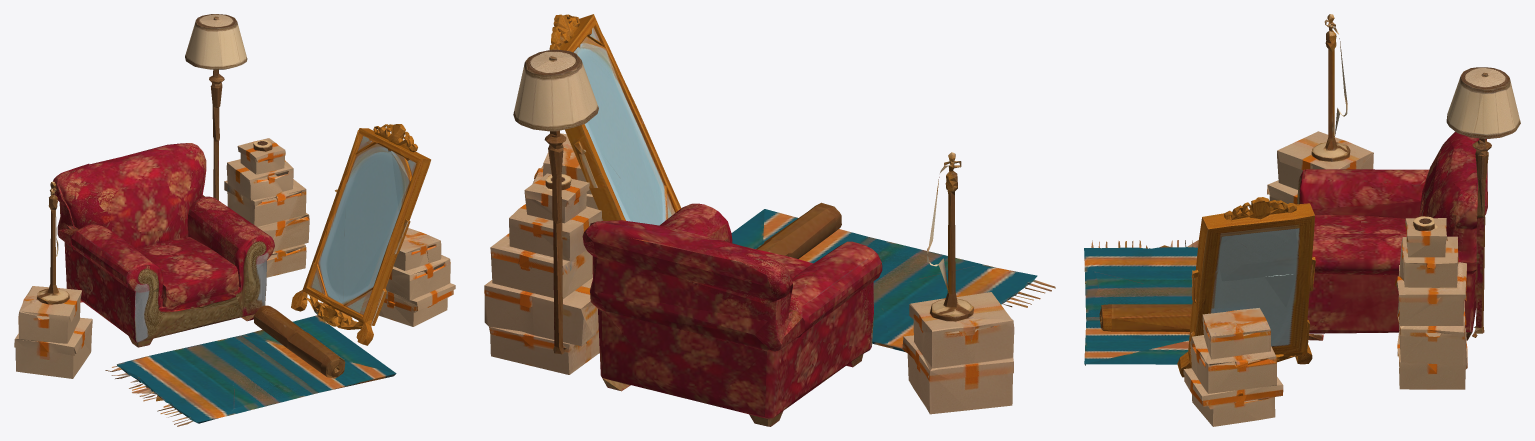
The picture shows the model from 3 angles, left to right: view 1: azimuth 30°, elevation 25°; view 2: azimuth 150°, elevation 25°; view 3: azimuth 270°, elevation 25°; orthographic projection. The views are drawn at different scales.
Size of the model in its own units: 1.9 by 1.12 by 1.54.
Materials: 1 (1 with a texture image).
